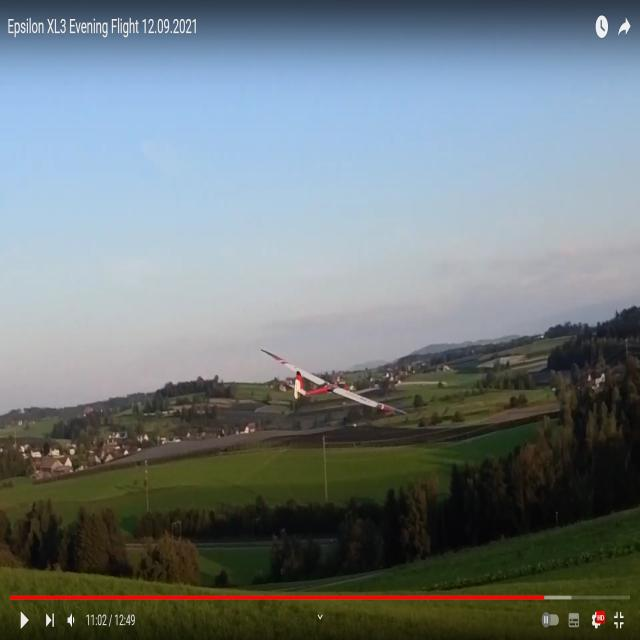iha: (253, 379, 399, 384)
